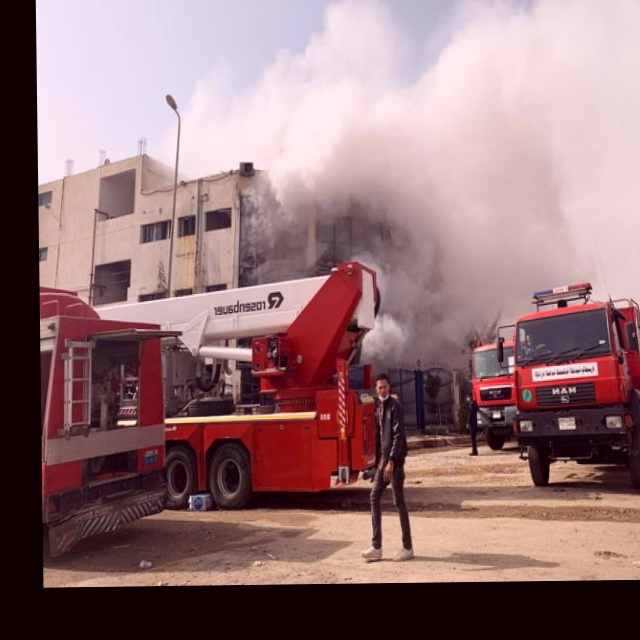Fire-truck: (39, 250, 363, 579), (502, 283, 640, 497), (459, 331, 540, 453)
person: (358, 372, 414, 562), (466, 392, 479, 455), (521, 333, 539, 359)
